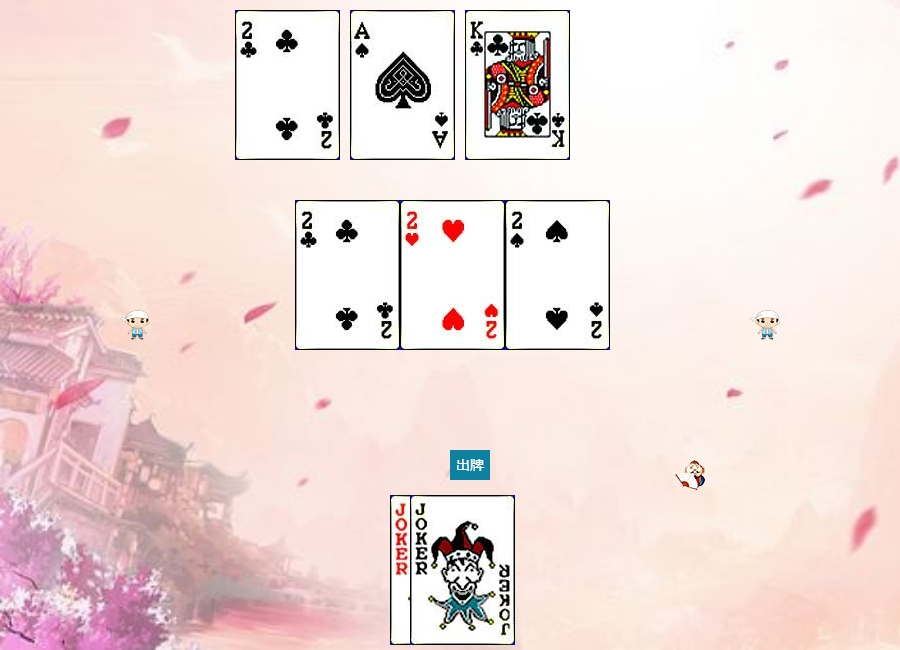13~2: (465, 10, 570, 160)
14~4: (350, 10, 455, 160)
15~2: (235, 10, 340, 160), (295, 200, 400, 350)
15~3: (400, 200, 505, 350)
15~4: (505, 200, 610, 350)
17~3: (410, 495, 515, 645)
18~4: (390, 495, 495, 645)
